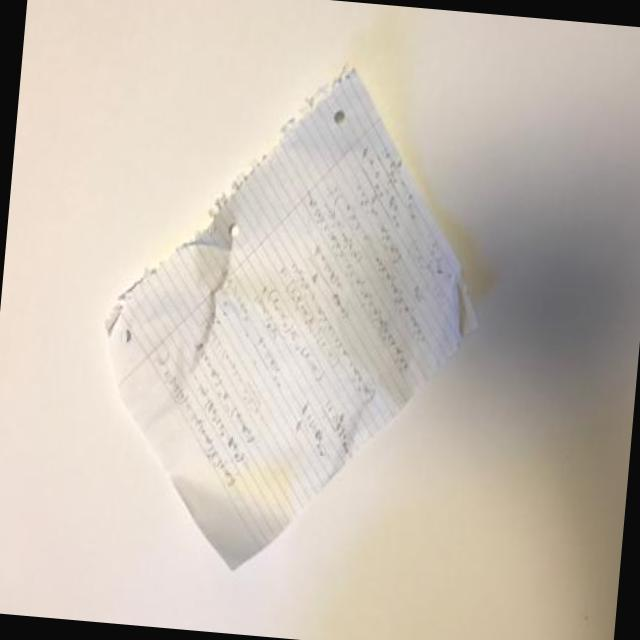giay: (101, 62, 477, 569)
